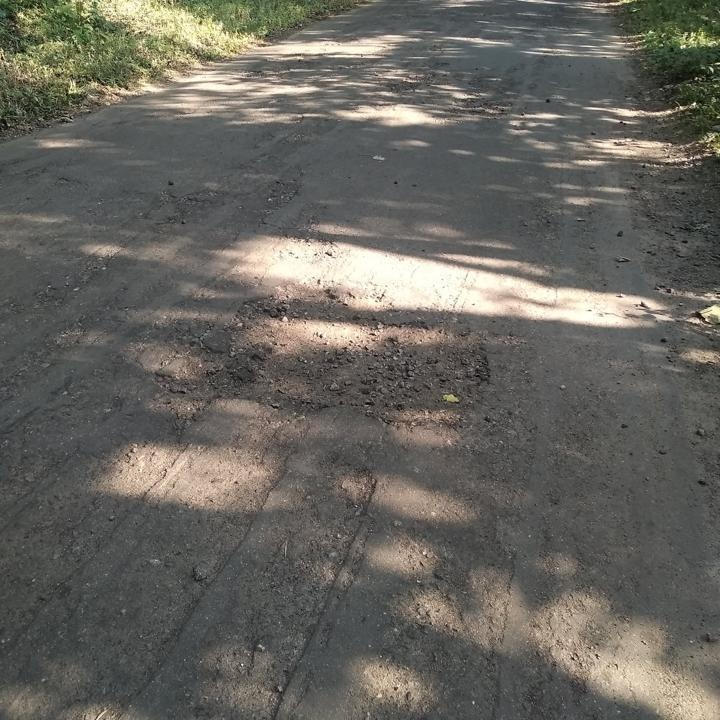pothole: (213, 277, 503, 420)
